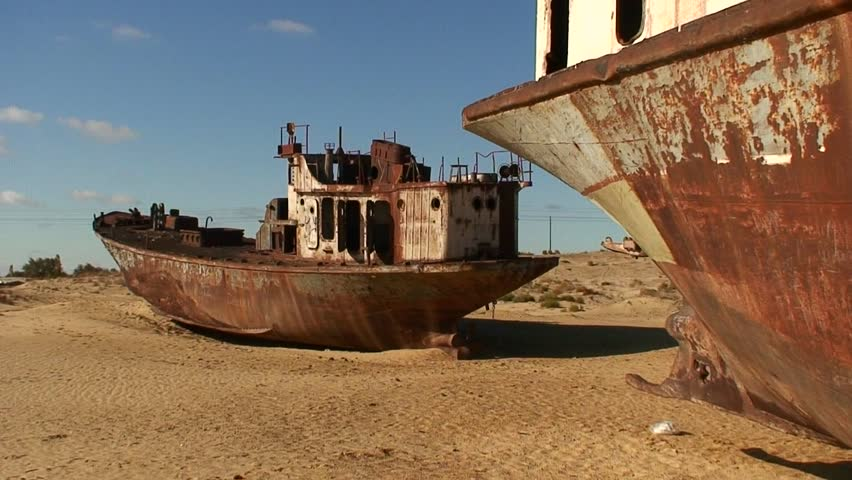rust: (628, 77, 852, 401), (117, 245, 428, 345)
